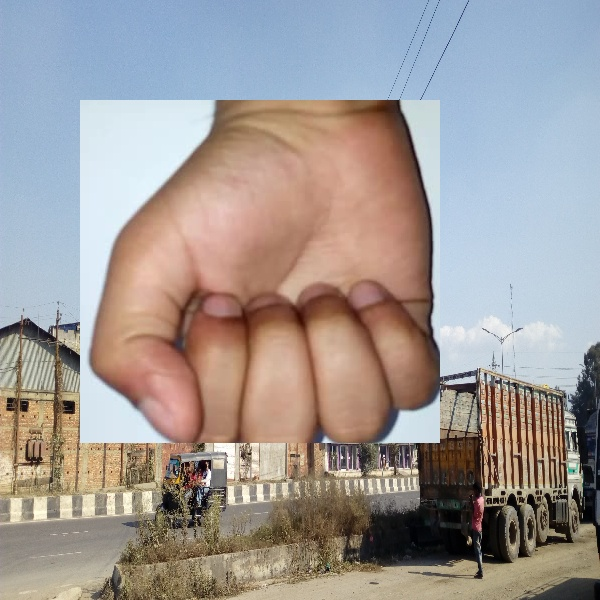A: (80, 100, 440, 443)
